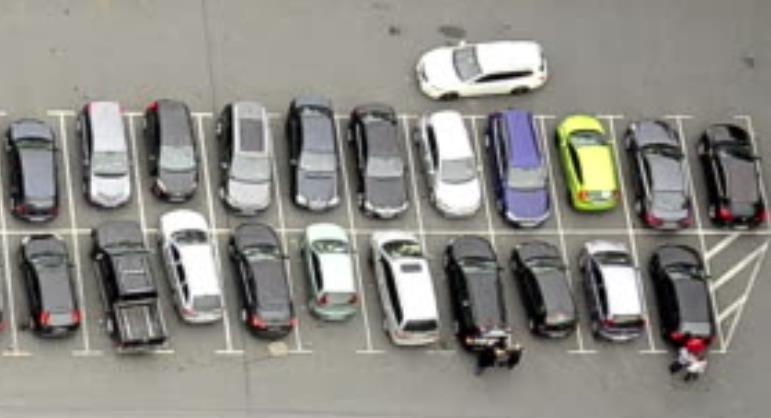car: (91, 221, 169, 350), (415, 36, 548, 103), (482, 108, 555, 229), (367, 227, 439, 349), (225, 224, 298, 340), (412, 110, 485, 221), (157, 210, 227, 325), (625, 116, 693, 233), (444, 234, 508, 355), (698, 123, 768, 232), (347, 103, 411, 220), (215, 100, 278, 215), (579, 238, 647, 344), (648, 242, 714, 349), (511, 236, 579, 339), (16, 234, 82, 339), (285, 94, 342, 214), (554, 113, 621, 213), (74, 97, 132, 211), (4, 118, 64, 222), (142, 100, 200, 205), (300, 220, 359, 322)
